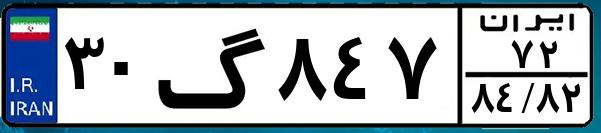0: (110, 28, 156, 98)
2: (560, 70, 590, 125), (537, 27, 568, 80)
3: (57, 26, 110, 100)
4: (330, 28, 385, 110), (495, 70, 520, 125)
7: (385, 28, 445, 110), (508, 27, 537, 80)
8: (270, 28, 330, 110), (470, 70, 495, 125), (535, 70, 560, 125)
گ: (156, 12, 270, 120)
